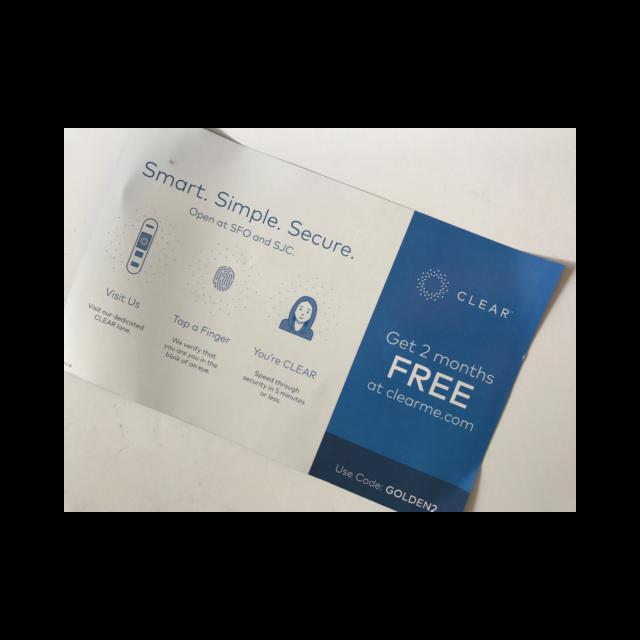paper: (64, 128, 563, 511)
